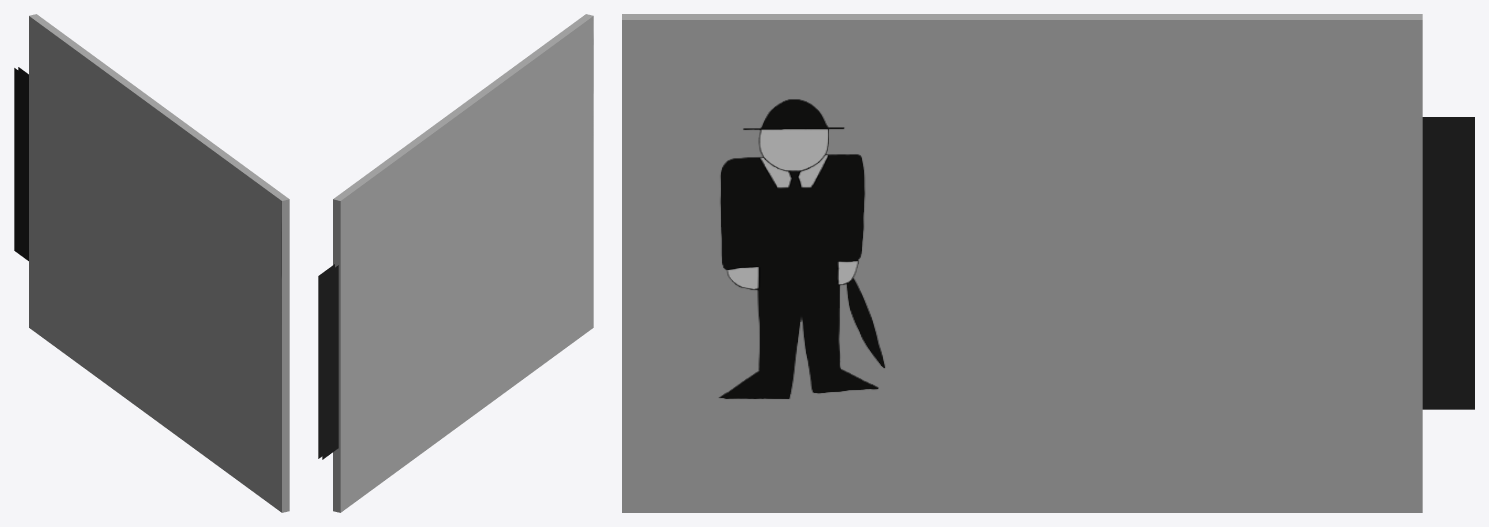
Rendered from sign_restroom.fbx.
3 views of the same model, side by side, from view 1: azimuth 30°, elevation 25°; view 2: azimuth 150°, elevation 25°; view 3: azimuth 270°, elevation 25° (orthographic). The views are drawn at different scales.
Visible parts, largest first — view 1: Cube; view 2: Cube; view 3: Cube.
Boxes of the visible parts, x1=… form: Cube: x1=14, y1=14, x2=289, y2=512; Cube: x1=318, y1=14, x2=593, y2=512; Cube: x1=622, y1=14, x2=1474, y2=512.
Size of the model in its own units: 2.6 by 102 by 160.
Materials: 2 (2 with a texture image).
